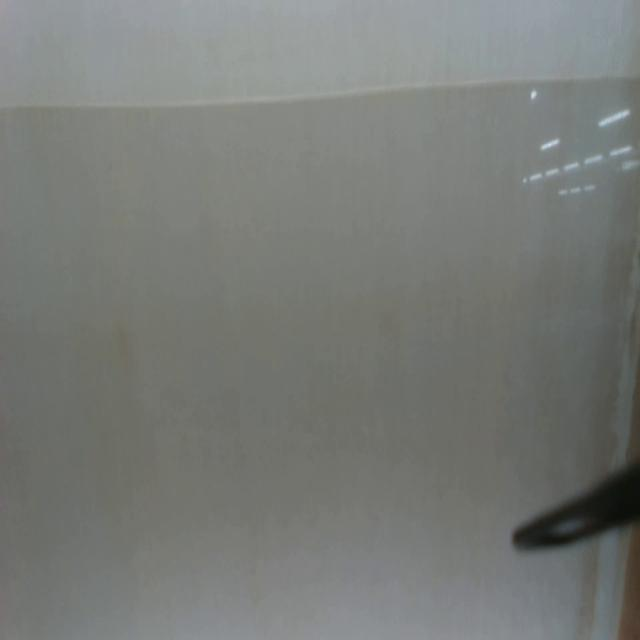color bleeding: (606, 209, 640, 468), (599, 518, 639, 640)
